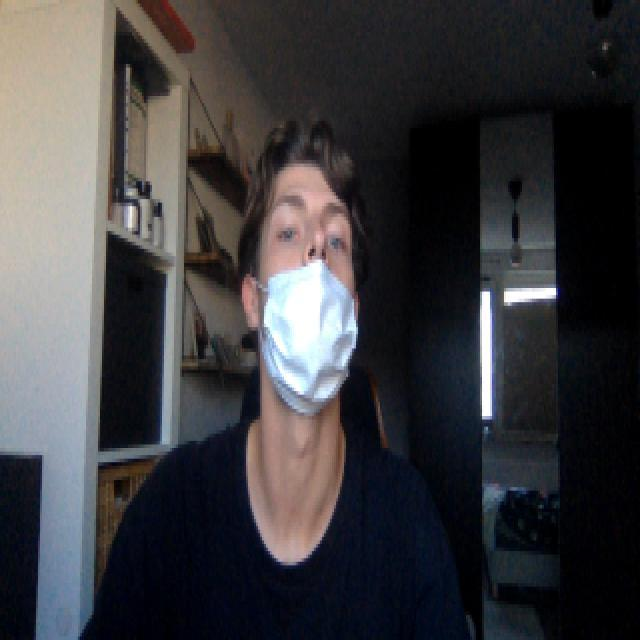hairnet: (244, 238, 360, 420)
